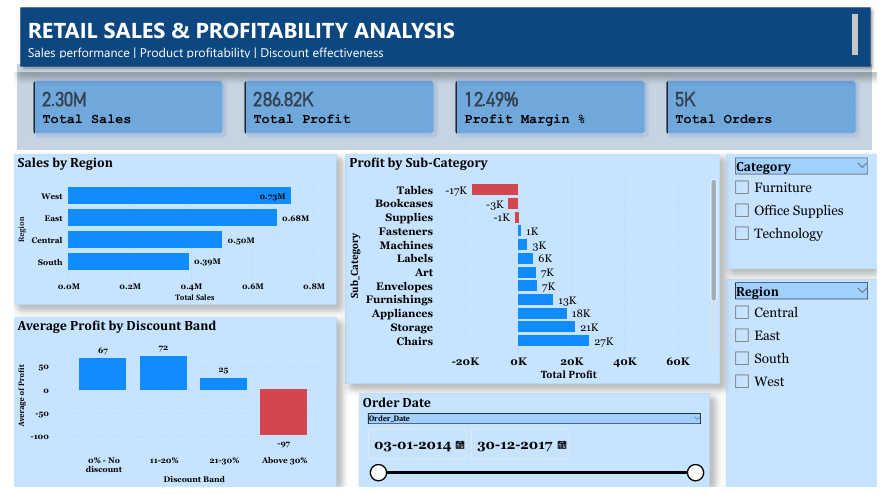

The page's visual inventory and layout, read from the dashboard file:
{"tool":"powerbi","page":{"name":"Page 1","canvas":[1280,720],"ordinal":0},"visuals":[{"type":"cardVisual","fields":{"Data":["Superstore.Total Sales","Superstore.Total Profit","Superstore.Profit Margin %","Superstore.Total Orders"]},"box":[0,89.2,1280,138],"z":0},{"type":"clusteredBarChart","title":"Sales by Region","fields":{"Category":["Superstore.Region"],"Y":["Superstore.Total Sales"]},"box":[0,227.1,477.6,222.9],"z":1000},{"type":"clusteredBarChart","title":"Profit by Sub-Category","fields":{"Category":["Superstore.Sub_Category"],"Y":["Superstore.Total Profit"]},"box":[492.5,227.1,554,339.6],"z":2000},{"type":"clusteredColumnChart","title":"Average Profit by Discount Band","fields":{"Category":["Superstore.Discount Band"],"Y":["Avg(Superstore.Profit)"]},"box":[0,469.1,477.6,250.5],"z":3000},{"type":"slicer","fields":{"Values":["Superstore.Region"]},"box":[1057.1,411.8,222.9,307.8],"z":4000},{"type":"slicer","fields":{"Values":["Superstore.Category"]},"box":[1057.1,227.1,222.9,169.8],"z":5000},{"type":"slicer","title":"Order Date","fields":{"Values":["Superstore.Order_Date"]},"box":[511.6,581.6,520.1,138],"z":6000},{"type":"shape","box":[0,0,1280,106.1],"z":7000},{"type":"textbox","box":[14.9,14.9,1241.8,74.3],"z":8000}]}

Visuals, with their boxes in screenshot pixels (x1, y1, x2, y2), scaled from the page's 1280x720 canvas onto the 887x495 screenshot:
cardVisual - Superstore.Total Sales x Superstore.Total Profit: x1=0 y1=61 x2=886 y2=156
"Sales by Region" clusteredBarChart: x1=0 y1=156 x2=331 y2=309
"Profit by Sub-Category" clusteredBarChart: x1=341 y1=156 x2=725 y2=390
"Average Profit by Discount Band" clusteredColumnChart: x1=0 y1=323 x2=331 y2=494
slicer - Superstore.Region: x1=733 y1=283 x2=886 y2=494
slicer - Superstore.Category: x1=733 y1=156 x2=886 y2=273
"Order Date" slicer: x1=355 y1=400 x2=715 y2=494
shape: x1=0 y1=0 x2=886 y2=73
textbox: x1=10 y1=10 x2=871 y2=61
